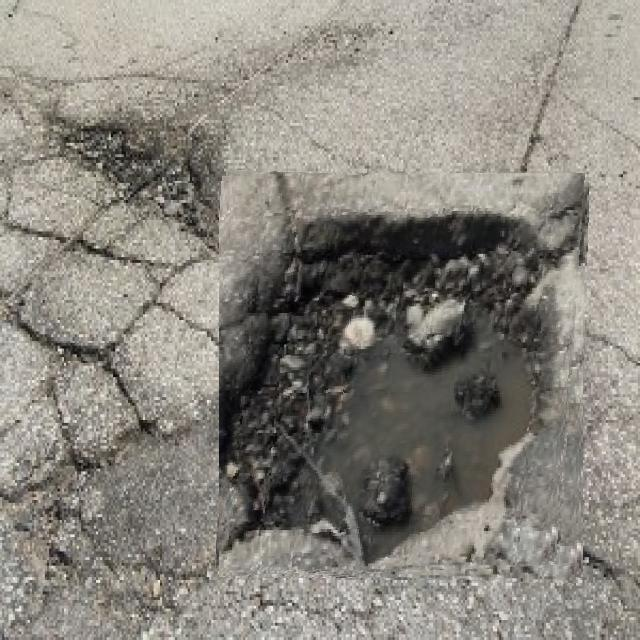Pothole: (219, 173, 586, 581)
